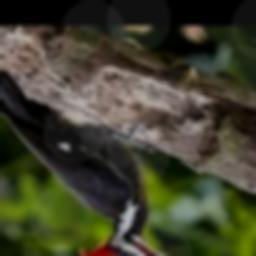Woodpecker: (0, 47, 192, 256)
